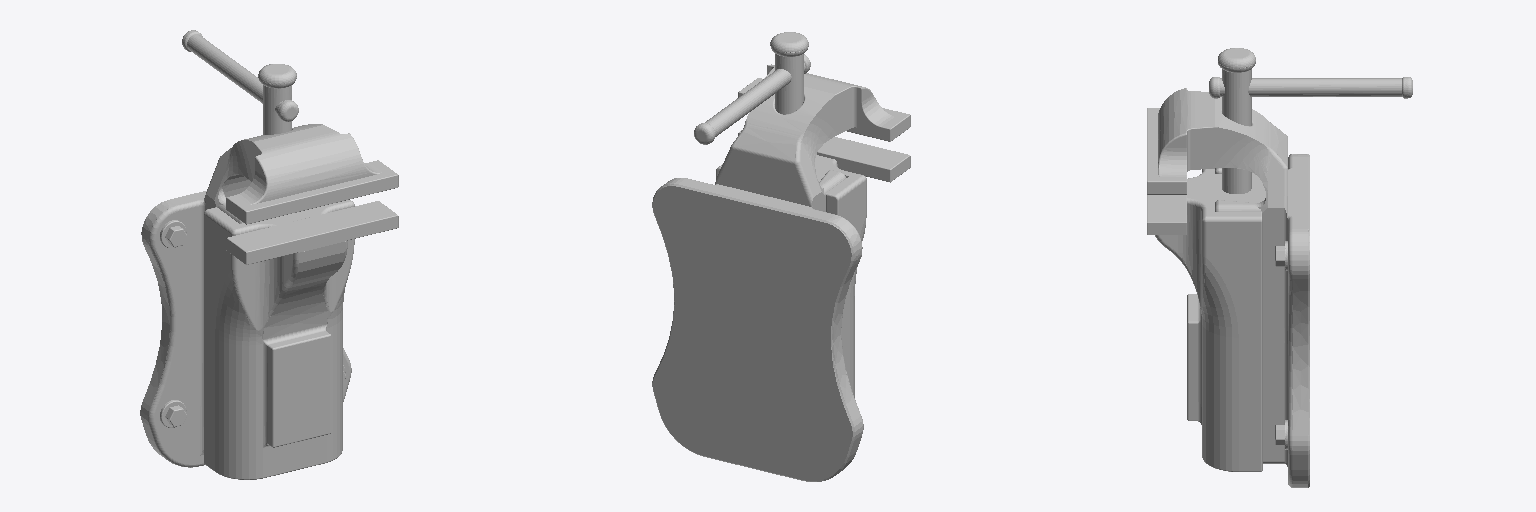
File: Schraubstock.obj
3 renders of one model, left to right at view 1: azimuth 30°, elevation 25°; view 2: azimuth 150°, elevation 25°; view 3: azimuth 270°, elevation 25°, orthographic.
Visible parts, largest first — view 1: Bench_Vise.001, Bench_Vise; view 2: Bench_Vise, Bench_Vise.001; view 3: Bench_Vise, Bench_Vise.001.
Part boxes in pixels (x1,y1,x2,y2): Bench_Vise.001: (204,200,398,479); Bench_Vise: (140,30,398,467); Bench_Vise: (652,32,910,481); Bench_Vise.001: (716,130,910,397); Bench_Vise: (1147,48,1412,487); Bench_Vise.001: (1147,169,1262,471).
Size of the model in its own units: 0.1276 by 0.2435 by 0.145.